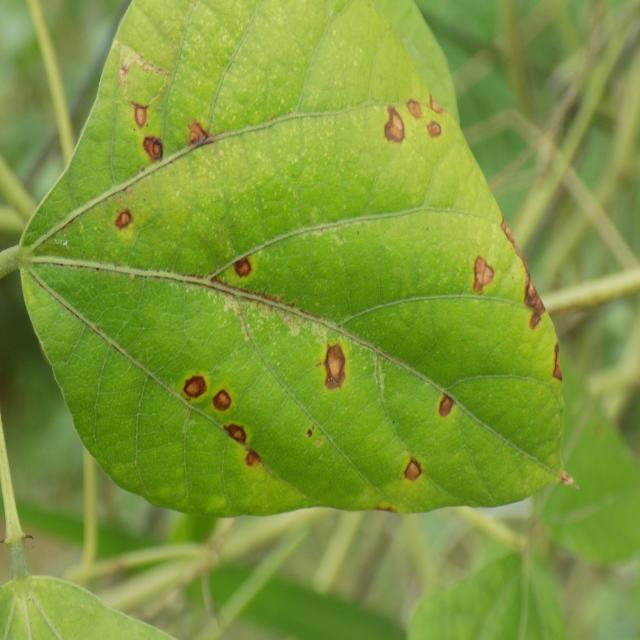Dolicos bean_cercospora leaf spot: (15, 0, 570, 519)
